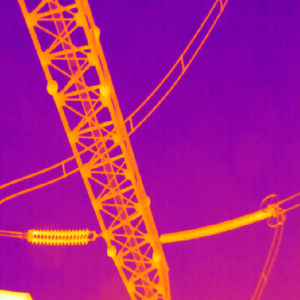insulator: (157, 205, 271, 243), (29, 226, 90, 236), (29, 236, 91, 245)
